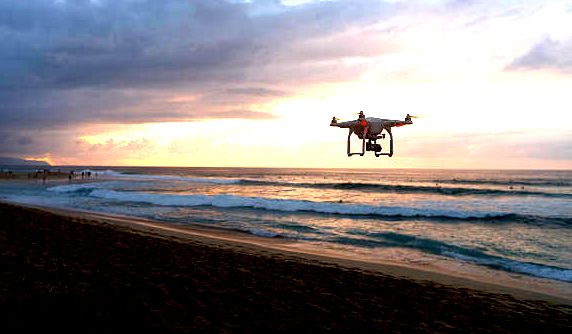Drone: (323, 108, 419, 161)
